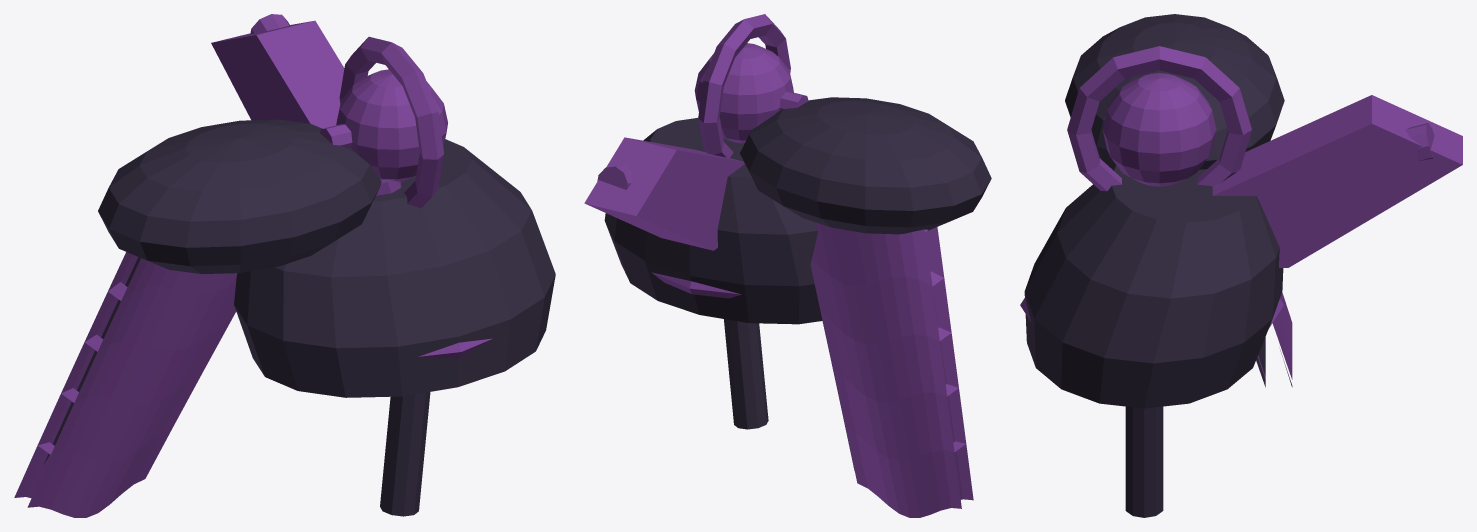
The model's file is vorthak_veil_warlock_r1_accessories.glb.
The picture shows the model from 3 angles, left to right: view 1: azimuth 30°, elevation 25°; view 2: azimuth 150°, elevation 25°; view 3: azimuth 270°, elevation 25°; orthographic projection. The views are drawn at different scales.
Parts seen in each view (by area): view 1: VeilCrown_HoodShell, VeilMantle_OneSidedShoulder, VeilMantle_InnerDrape, VeilCrown_BackSweep, VeilFocus_Orb, VeilFocus_OrbFrame, VeilFocus_WandLower, VeilCrown_HoodBand; view 2: VeilMantle_InnerDrape, VeilMantle_OneSidedShoulder, VeilCrown_HoodShell, VeilCrown_BackSweep, VeilFocus_Orb, VeilFocus_OrbFrame, VeilFocus_WandLower, VeilCrown_HoodBand, VeilCrown_RitualRidge; view 3: VeilCrown_HoodShell, VeilCrown_BackSweep, VeilMantle_OneSidedShoulder, VeilFocus_Orb, VeilFocus_OrbFrame, VeilFocus_WandLower, VeilMantle_InnerDrape, VeilCrown_RitualRidge.
Boxes of the visible parts, x1=… form: VeilCrown_HoodShell: x1=234, y1=139, x2=555, y2=397; VeilMantle_OneSidedShoulder: x1=98, y1=119, x2=381, y2=274; VeilMantle_InnerDrape: x1=14, y1=252, x2=237, y2=517; VeilCrown_BackSweep: x1=211, y1=20, x2=344, y2=128; VeilFocus_Orb: x1=336, y1=69, x2=447, y2=181; VeilFocus_OrbFrame: x1=339, y1=36, x2=443, y2=208; VeilFocus_WandLower: x1=380, y1=392, x2=430, y2=516; VeilCrown_HoodBand: x1=418, y1=338, x2=492, y2=358; VeilMantle_InnerDrape: x1=810, y1=222, x2=973, y2=517; VeilMantle_OneSidedShoulder: x1=740, y1=97, x2=991, y2=234; VeilCrown_HoodShell: x1=604, y1=118, x2=822, y2=324; VeilCrown_BackSweep: x1=584, y1=137, x2=744, y2=250; VeilFocus_Orb: x1=694, y1=43, x2=793, y2=143; VeilFocus_OrbFrame: x1=698, y1=14, x2=790, y2=157; VeilFocus_WandLower: x1=724, y1=319, x2=768, y2=429; VeilCrown_HoodBand: x1=651, y1=272, x2=741, y2=298; VeilCrown_RitualRidge: x1=597, y1=165, x2=632, y2=189; VeilCrown_HoodShell: x1=1024, y1=165, x2=1283, y2=408; VeilCrown_BackSweep: x1=1212, y1=95, x2=1462, y2=267; VeilMantle_OneSidedShoulder: x1=1065, y1=14, x2=1284, y2=169; VeilFocus_Orb: x1=1102, y1=73, x2=1216, y2=186; VeilFocus_OrbFrame: x1=1067, y1=46, x2=1251, y2=191; VeilFocus_WandLower: x1=1125, y1=406, x2=1163, y2=517; VeilMantle_InnerDrape: x1=1257, y1=292, x2=1292, y2=379; VeilCrown_RitualRidge: x1=1405, y1=123, x2=1434, y2=161.
Size of the model in its own units: 0.7 by 0.6747 by 0.584.
